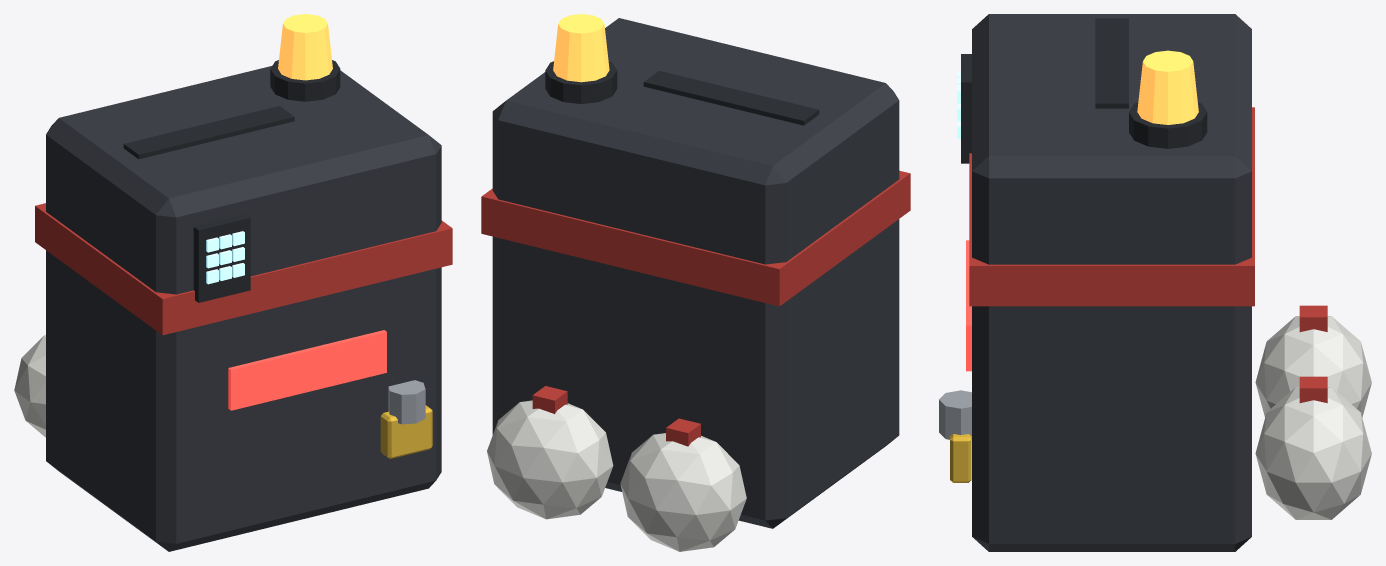
The model's file is shredder_p2_4.glb.
The picture shows the model from 3 angles, left to right: view 1: azimuth 30°, elevation 25°; view 2: azimuth 150°, elevation 25°; view 3: azimuth 270°, elevation 25°; orthographic projection. The views are drawn at different scales.
Parts seen in each view (by area): view 1: shredder_p2_4_mesh; view 2: shredder_p2_4_mesh; view 3: shredder_p2_4_mesh.
Part boxes in pixels (x1,y1,x2,y2): shredder_p2_4_mesh: [14, 14, 452, 551]; shredder_p2_4_mesh: [481, 14, 910, 551]; shredder_p2_4_mesh: [939, 14, 1371, 551].
Bounding box in the file's own units: 0.67 × 0.9335 × 0.773.
